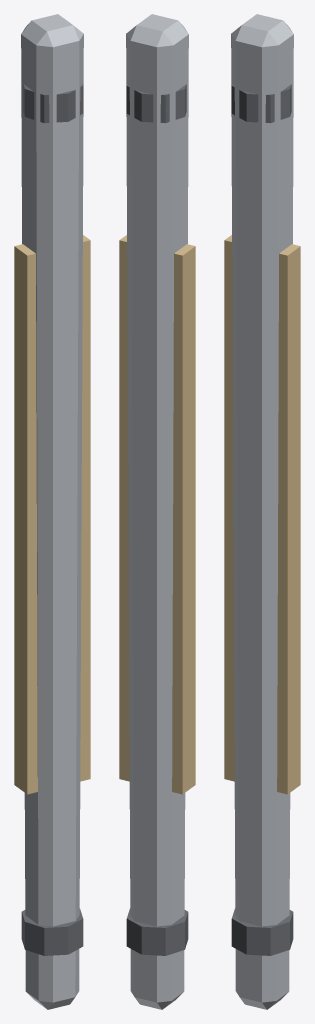
File: bastion.leg_7.glb
3 renders of one model, left to right at view 1: azimuth 30°, elevation 25°; view 2: azimuth 150°, elevation 25°; view 3: azimuth 330°, elevation 25°, orthographic.
Size of the model in its own units: 0.4728 by 7 by 0.4116.
